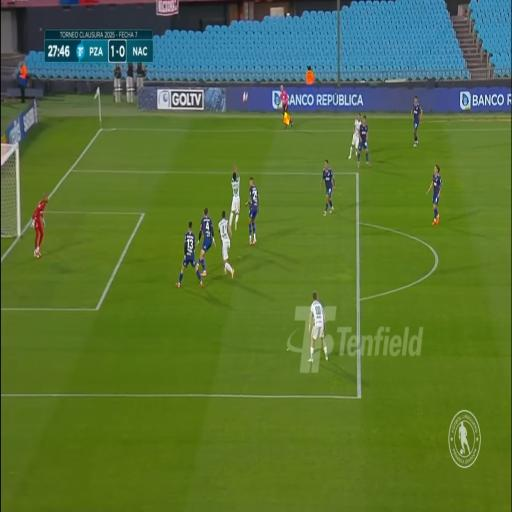Goalkeeper: (31, 192, 48, 261), (218, 211, 234, 281), (199, 202, 213, 278), (247, 174, 261, 248), (312, 293, 326, 361), (323, 158, 335, 218), (232, 167, 242, 230), (432, 166, 442, 224), (349, 114, 359, 158), (414, 96, 421, 149), (358, 115, 366, 157)
Player: (182, 224, 195, 284)
Referee: (279, 82, 290, 129)
